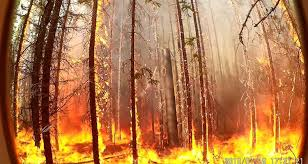fire: (15, 123, 153, 162), (212, 125, 301, 161), (161, 131, 209, 162)
smoke: (201, 9, 247, 113)
